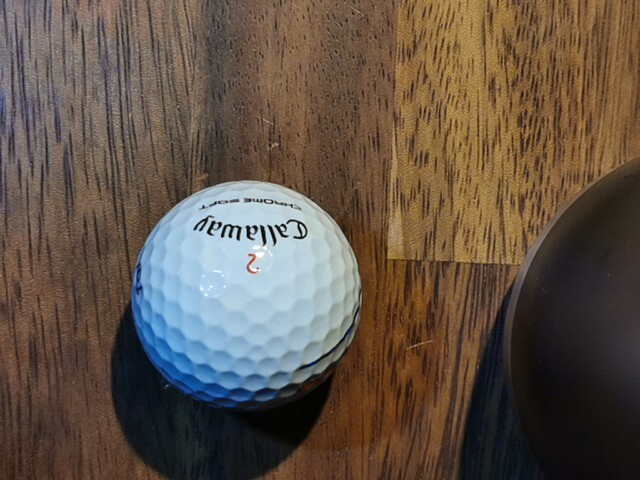Ball: (131, 179, 362, 411)
Callaway: (192, 214, 308, 246)
